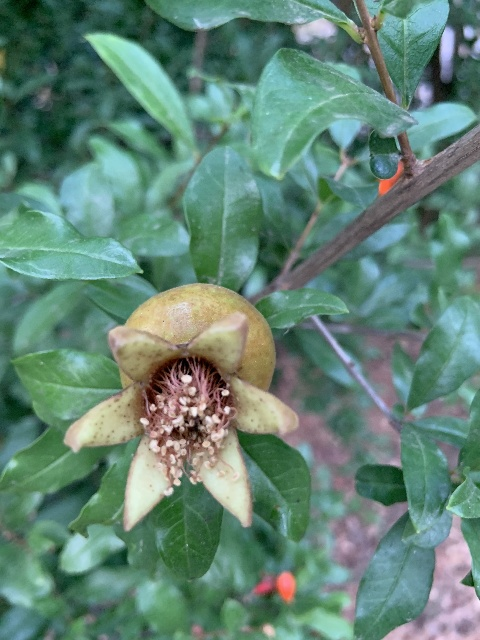early-fruit: (63, 280, 300, 534)
